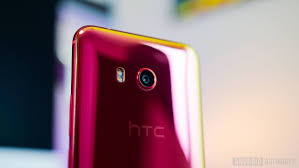htc: (67, 20, 202, 168)
